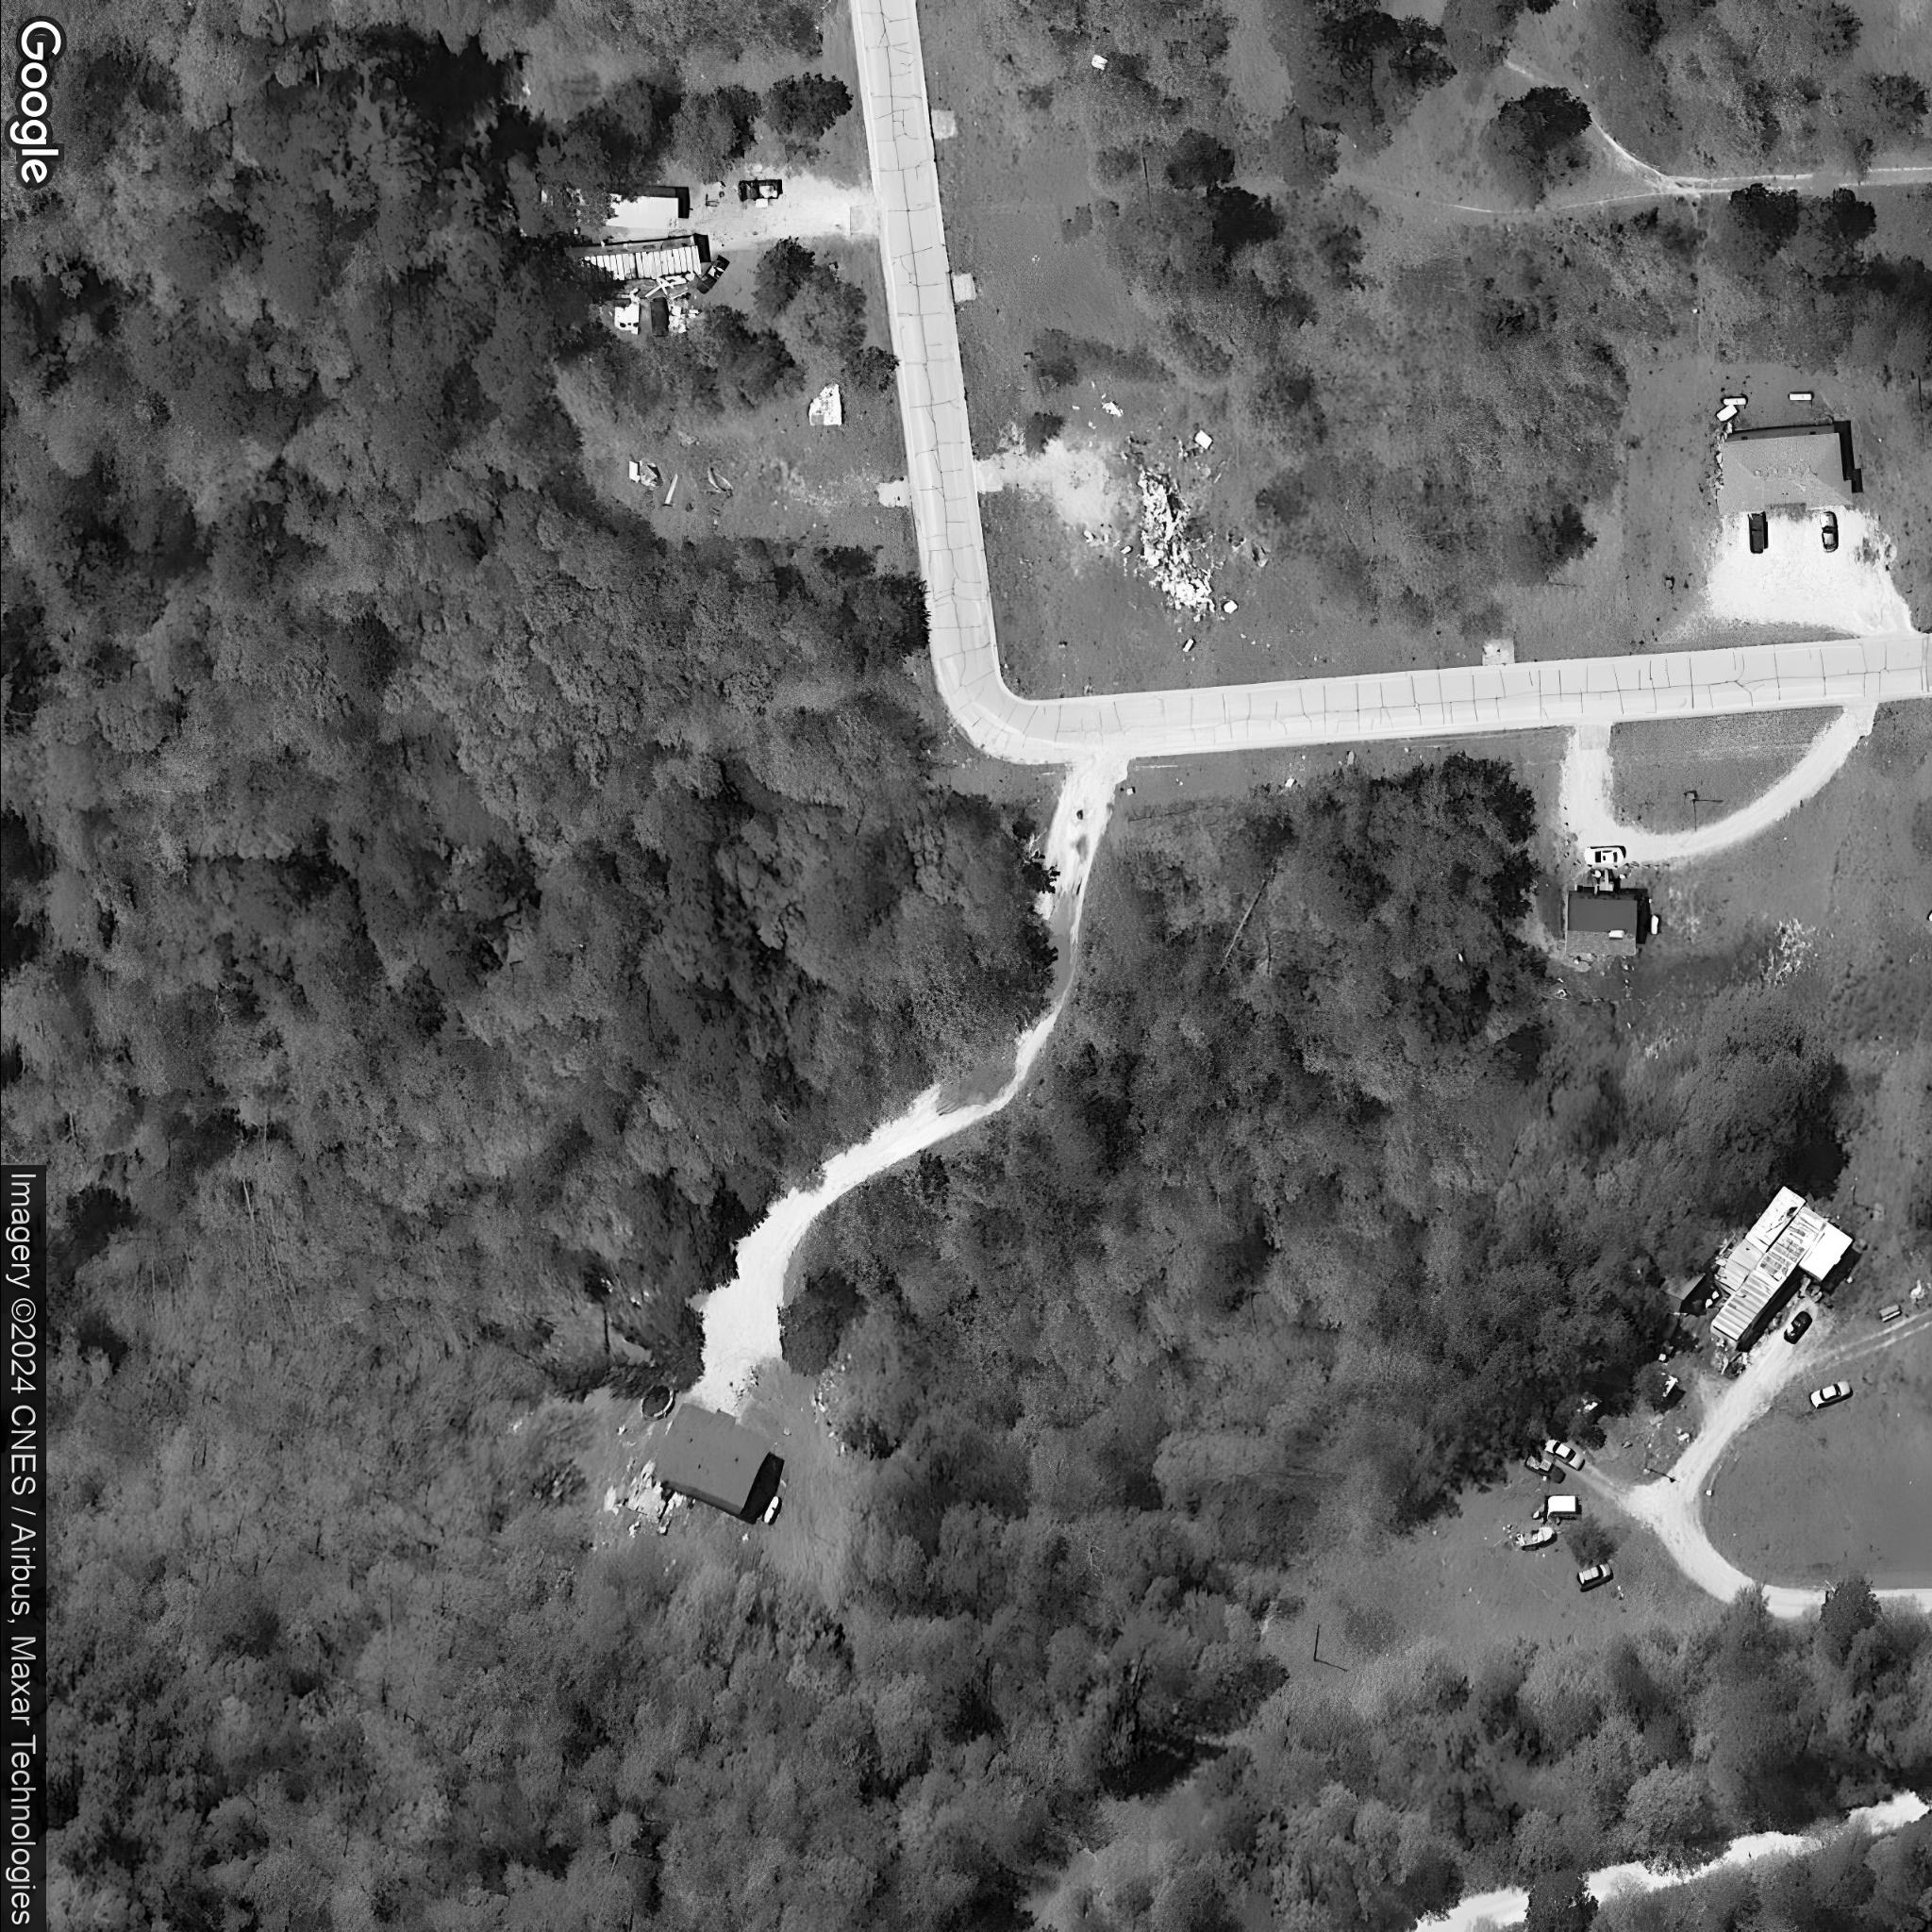House: (648, 1401, 773, 1520), (1714, 425, 1852, 513), (1562, 892, 1638, 957)
Propane: (757, 1495, 787, 1529), (1649, 911, 1663, 938), (1718, 393, 1748, 405), (1783, 391, 1815, 402)
Trailer: (1707, 1187, 1854, 1346), (564, 237, 701, 285), (538, 186, 679, 228)
